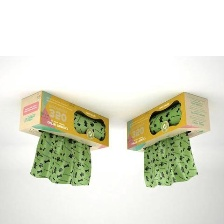book: (13, 86, 114, 156), (120, 88, 214, 157)
tissue: (24, 127, 97, 190), (139, 128, 201, 193)
